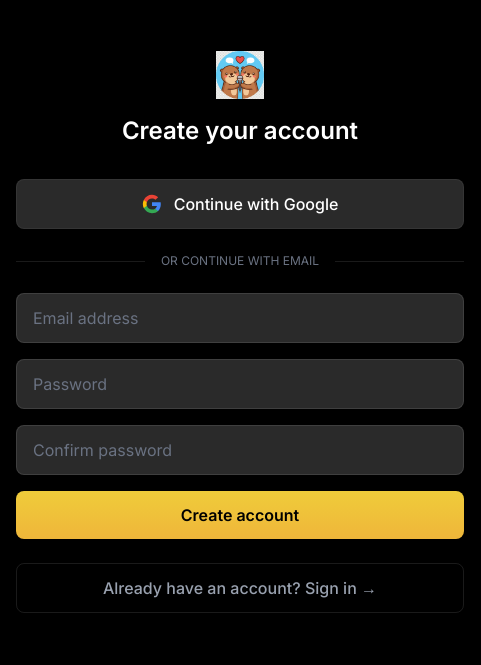
Scenario: SignUpPage › shows error when passwords do not match
Type "test@example.com" into the field with placeholder "Email address" at (240, 318), box [16,293,464,343]
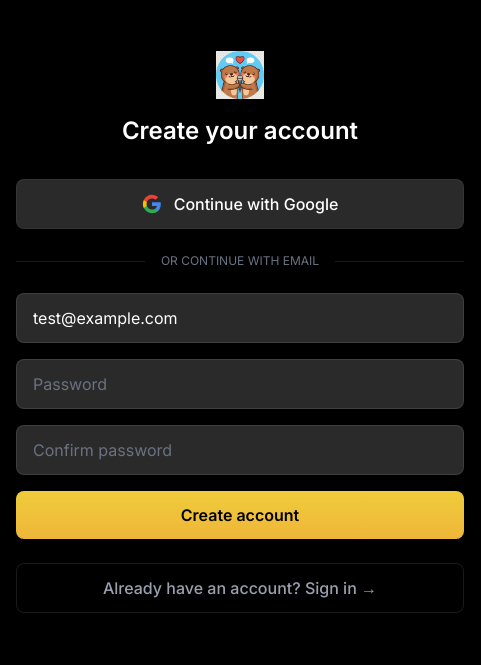
Type "password123" into the password field with placeholder "Password" at (240, 384), box [16,359,464,409]
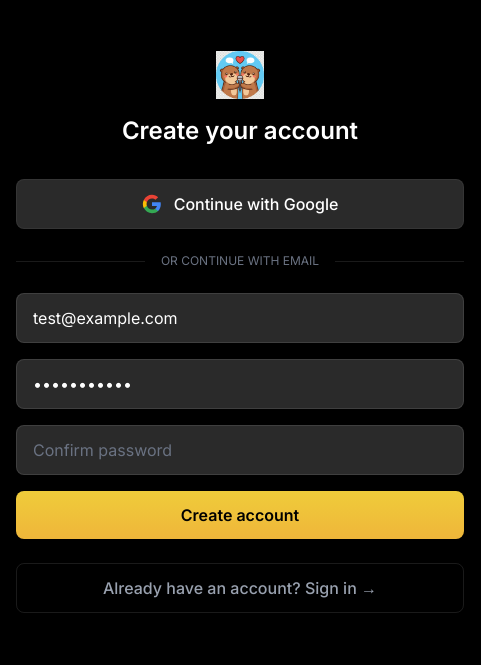
Type "different" into the password field with placeholder "Confirm password" at (240, 450), box [16,425,464,475]
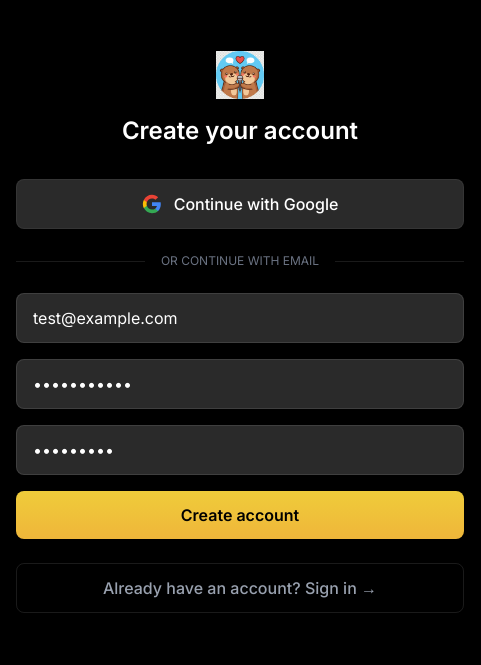
Click the button "Create account" at (240, 515), box [16,491,464,539]
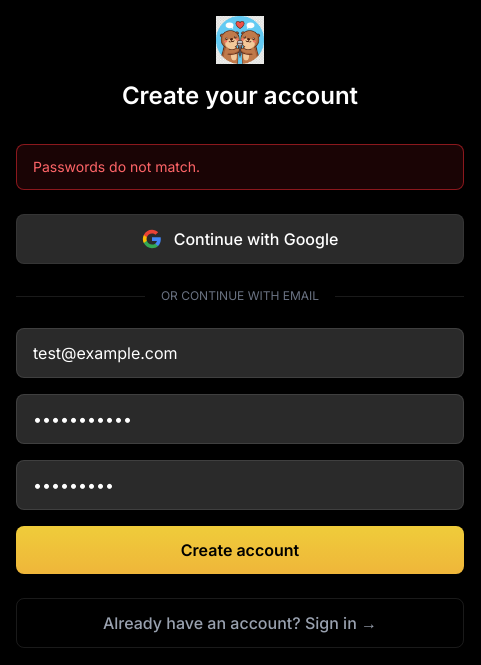
Expected: the text "Passwords do not match." is shown, [16,144,464,190]
